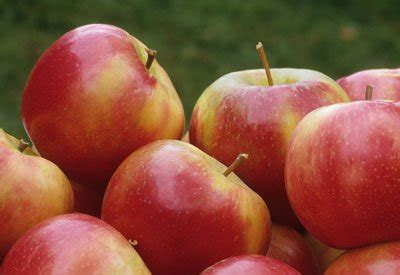apple: (19, 21, 187, 175), (92, 136, 275, 275), (282, 95, 400, 251), (187, 65, 353, 169)
